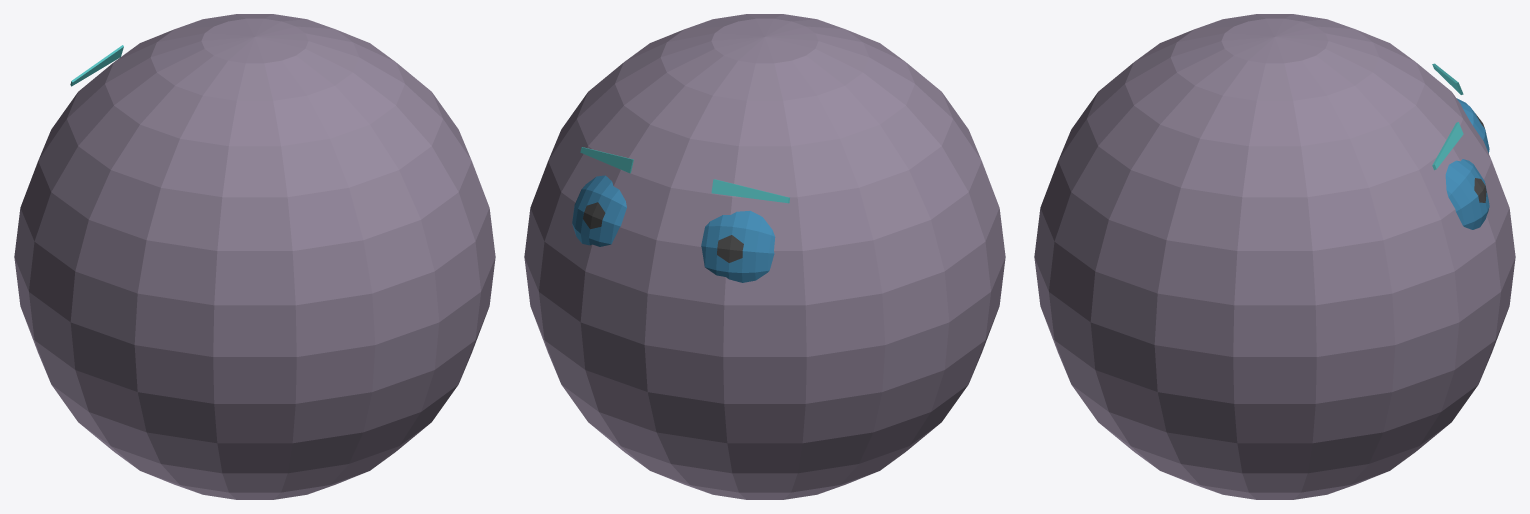
The model's file is Lyssa.fbx.
3 views of the same model, side by side, from view 1: azimuth 30°, elevation 25°; view 2: azimuth 150°, elevation 25°; view 3: azimuth 270°, elevation 25° (orthographic).
Parts seen in each view (by area): view 1: Lyssa; view 2: Lyssa, Eye, Eyebrow; view 3: Lyssa, Eye, Eyebrow.
Part boxes in pixels (x1=…): Lyssa: x1=14, y1=14, x2=495, y2=499; Lyssa: x1=524, y1=14, x2=1005, y2=499; Eye: x1=572, y1=175, x2=775, y2=282; Eyebrow: x1=580, y1=147, x2=789, y2=203; Lyssa: x1=1034, y1=14, x2=1515, y2=499; Eye: x1=1445, y1=98, x2=1489, y2=229; Eyebrow: x1=1432, y1=63, x2=1463, y2=170.
Size of the model in its own units: 193 by 197 by 196.
